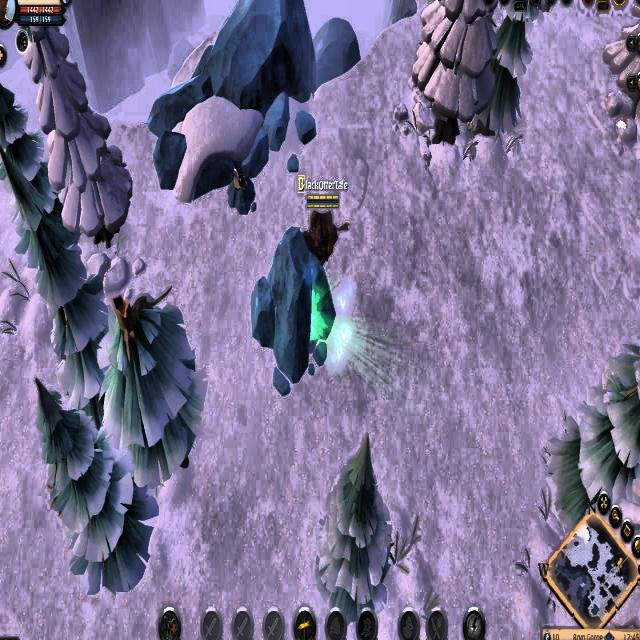copperore: (224, 163, 259, 218)
